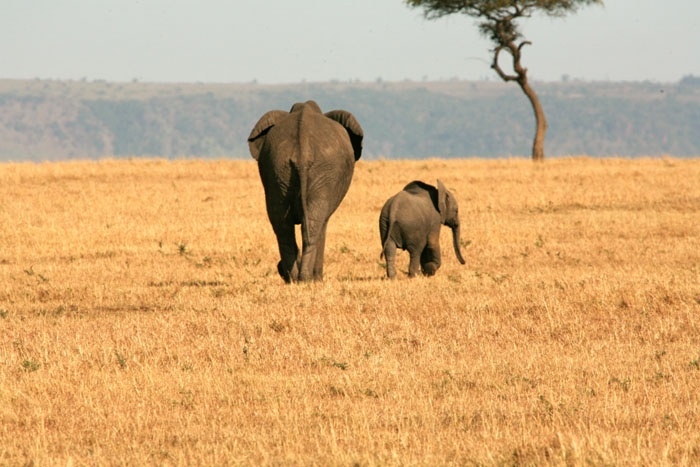elephant: (246, 98, 366, 283), (375, 178, 464, 276)
